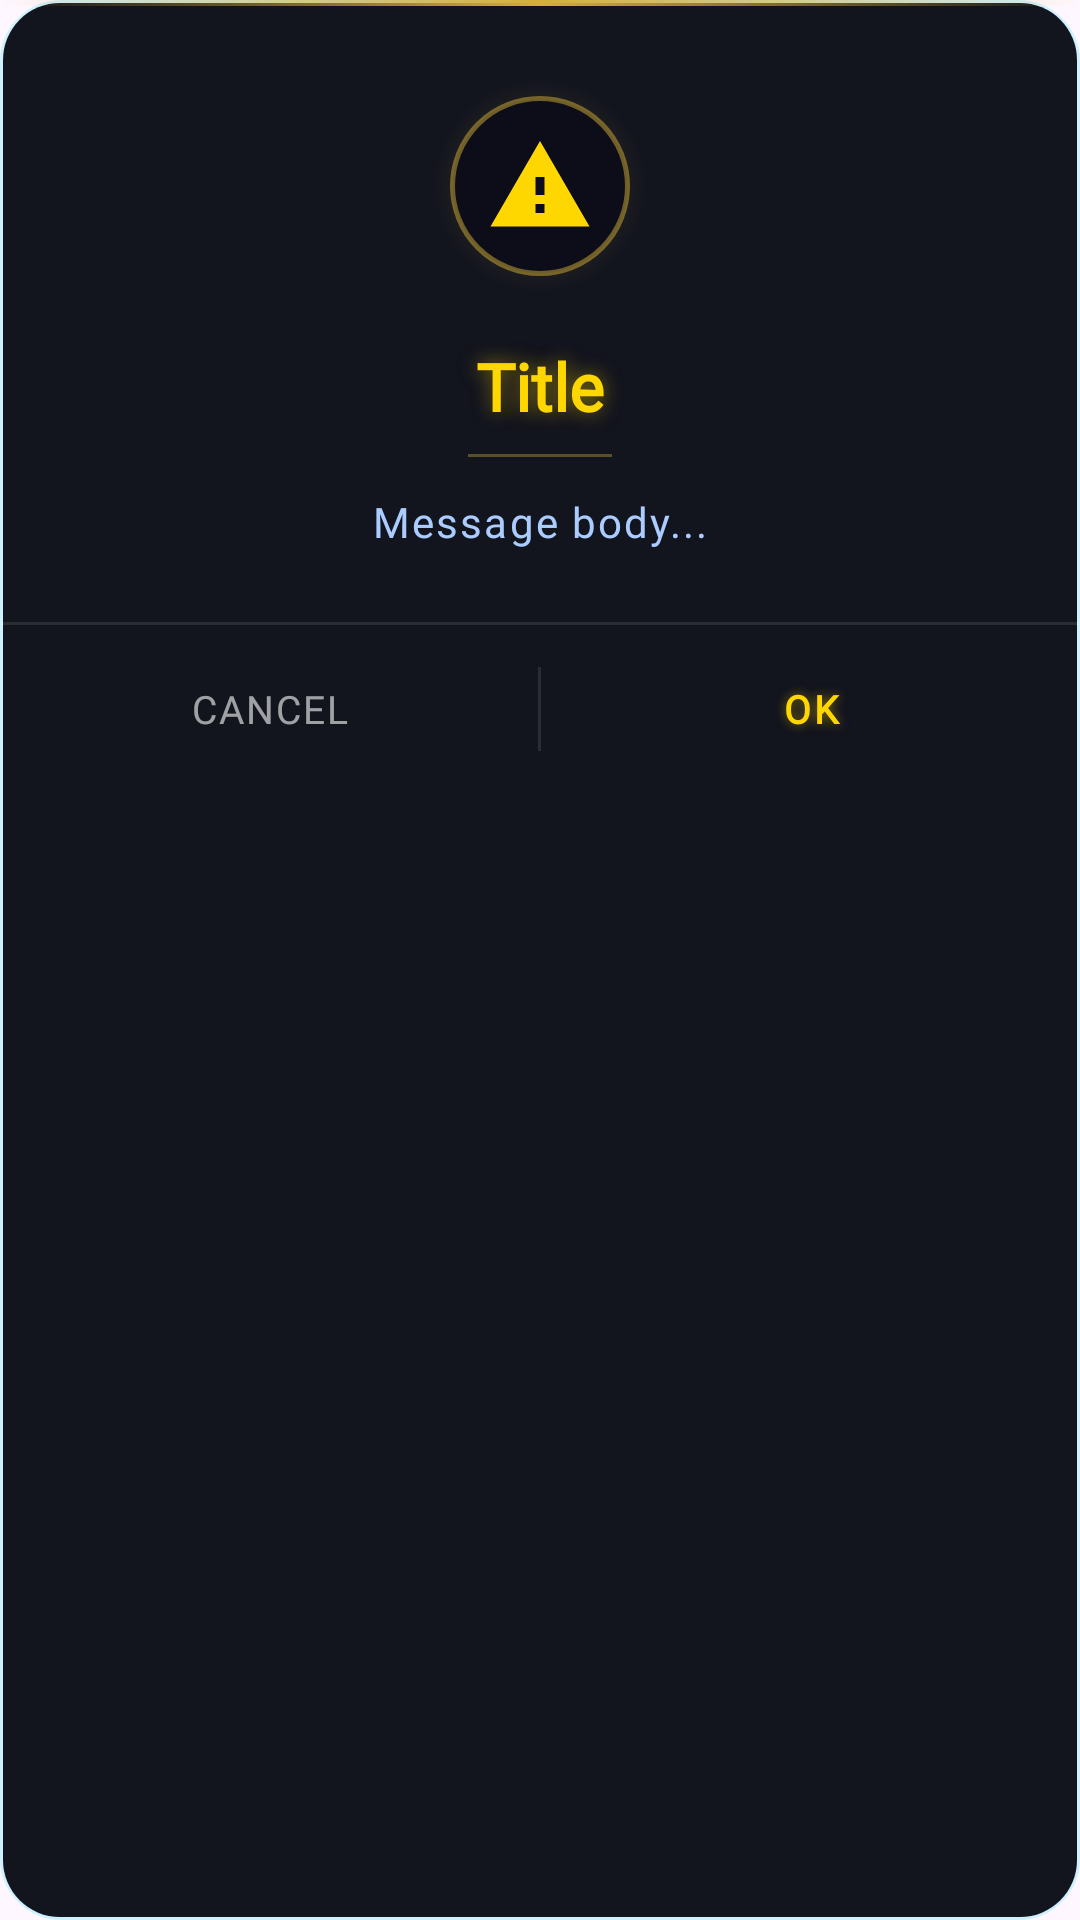

Named icons in this screenshot (1080*1920) and their centers, [x,y]:
warning ember: [540,184]
